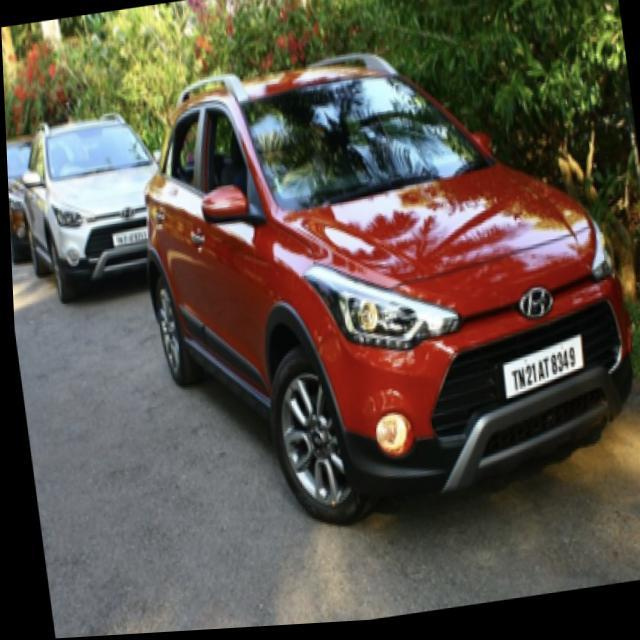license_plate: (489, 347, 592, 406), (106, 224, 152, 247)
